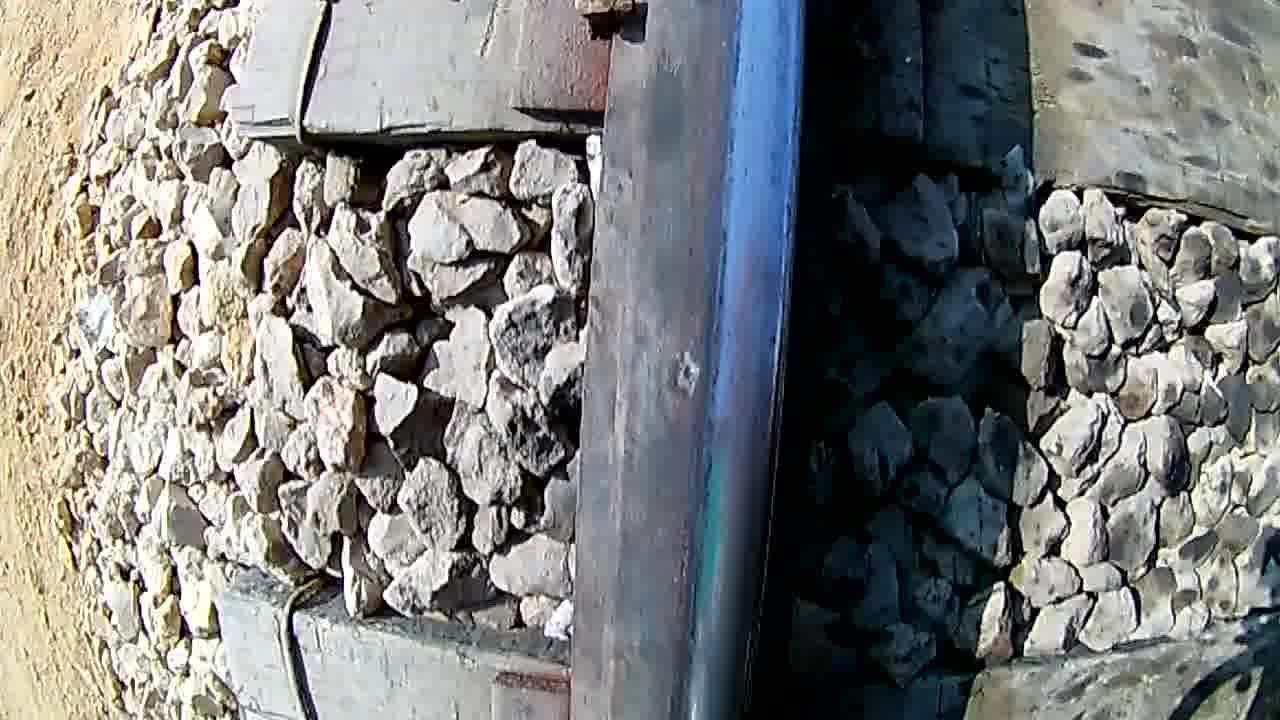crack: (595, 0, 790, 716)
